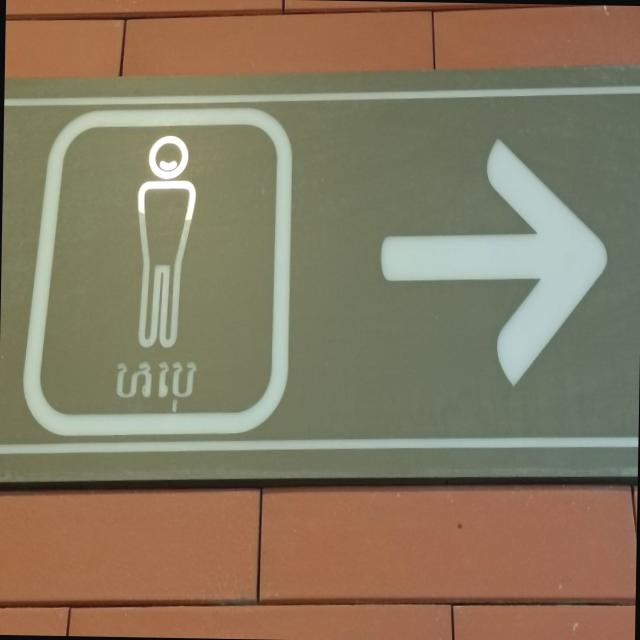Yolov11_80vkh: (108, 346, 202, 415)
